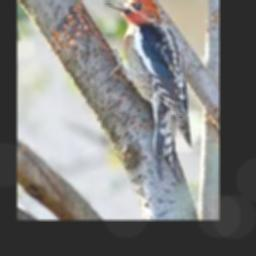Woodpecker: (104, 0, 191, 181)
